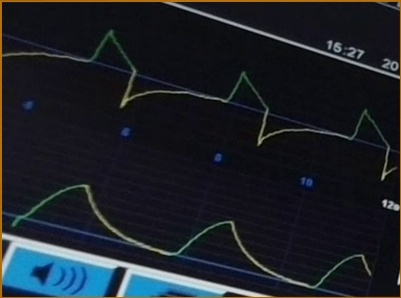Normal Flow: (1, 28, 399, 179)
Normal Volume: (11, 183, 371, 291)
